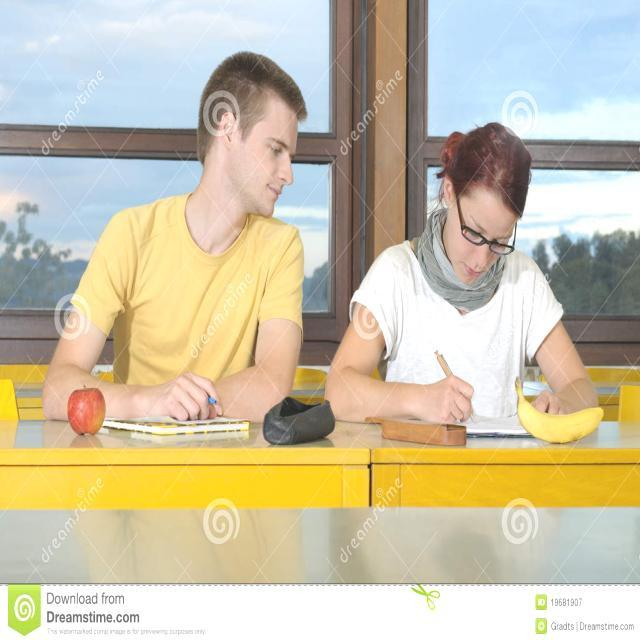cheating: (23, 39, 325, 447)
good: (337, 112, 600, 460)
